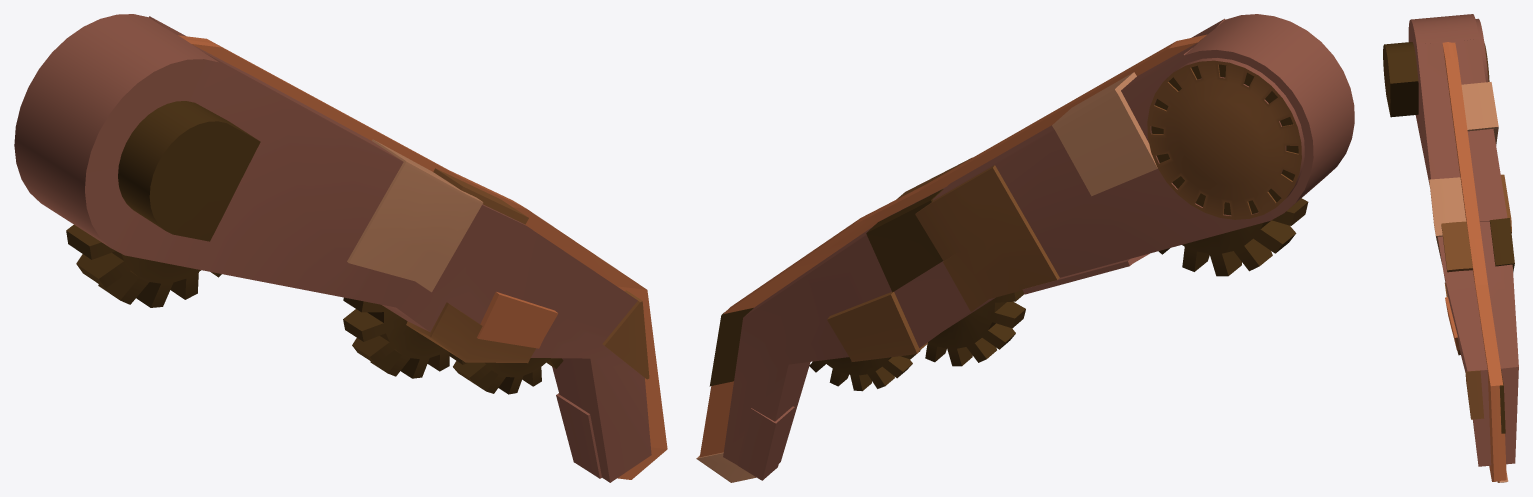
Rendered from Rechts Achter Bovenbeen.fbx.
The picture shows the model from 3 angles, left to right: view 1: azimuth 30°, elevation 25°; view 2: azimuth 150°, elevation 25°; view 3: azimuth 270°, elevation 25°; orthographic projection. The views are drawn at different scales.
Parts seen in each view (by area): view 1: Bovenbeen.001; view 2: Bovenbeen.001; view 3: Bovenbeen.001.
Part boxes in pixels (box(x1,y1,x2,y2)): Bovenbeen.001: box(14, 14, 667, 482); Bovenbeen.001: box(696, 14, 1354, 482); Bovenbeen.001: box(1383, 14, 1518, 482).
Size of the model in its own units: 1877 by 1611 by 615.
